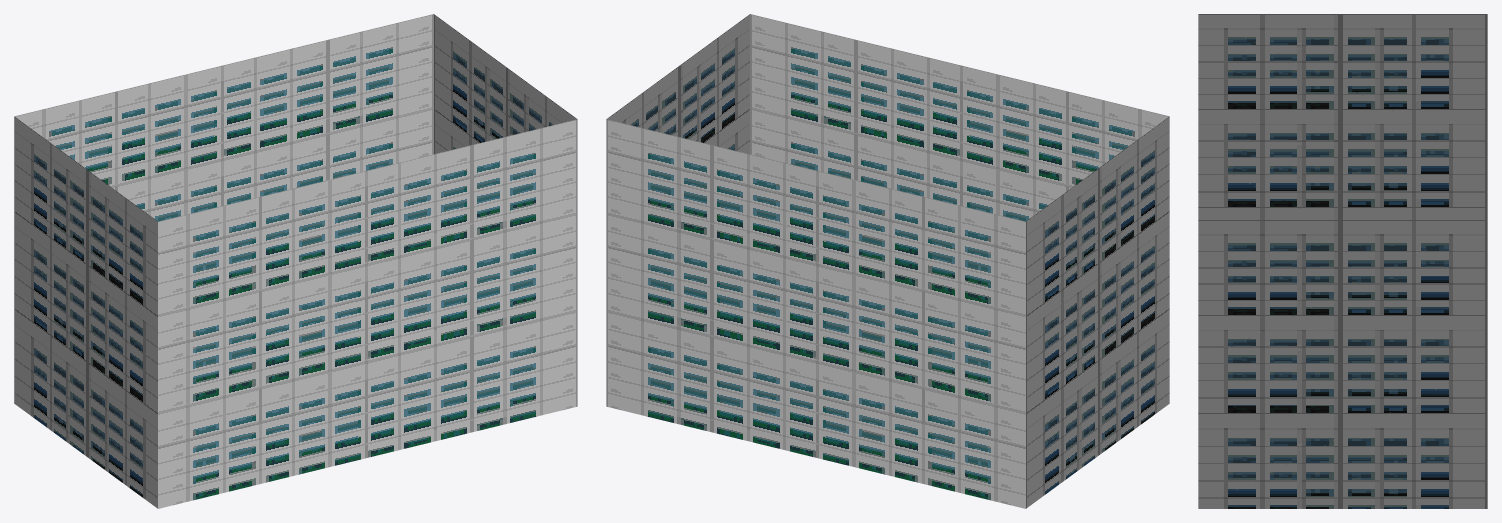
The picture shows the model from 3 angles, left to right: view 1: azimuth 30°, elevation 25°; view 2: azimuth 150°, elevation 25°; view 3: azimuth 270°, elevation 25°; orthographic projection.
Visible parts, largest first — view 1: obj-137; view 2: obj-137; view 3: obj-137.
Part boxes in pixels (x1=…): obj-137: x1=14, y1=14, x2=577, y2=508; obj-137: x1=606, y1=14, x2=1169, y2=508; obj-137: x1=1198, y1=14, x2=1487, y2=508.
Size of the model in its own units: 5.96 by 3.9 by 3.54.
1 material, 1 textured.
